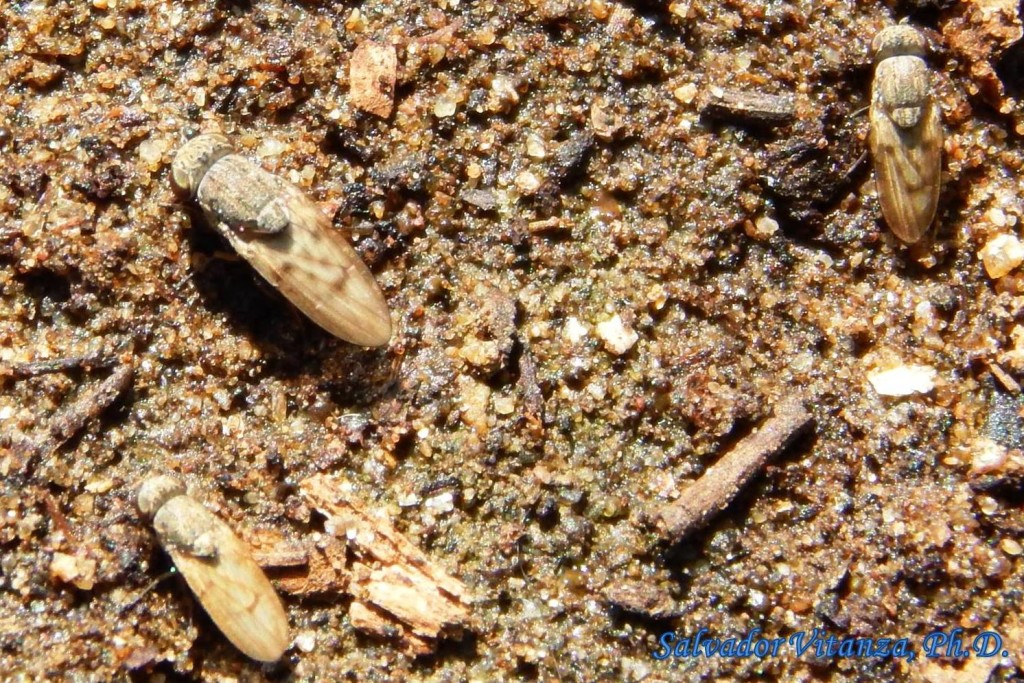Ephydridae: (169, 135, 400, 357), (132, 468, 295, 671), (852, 24, 945, 247)
